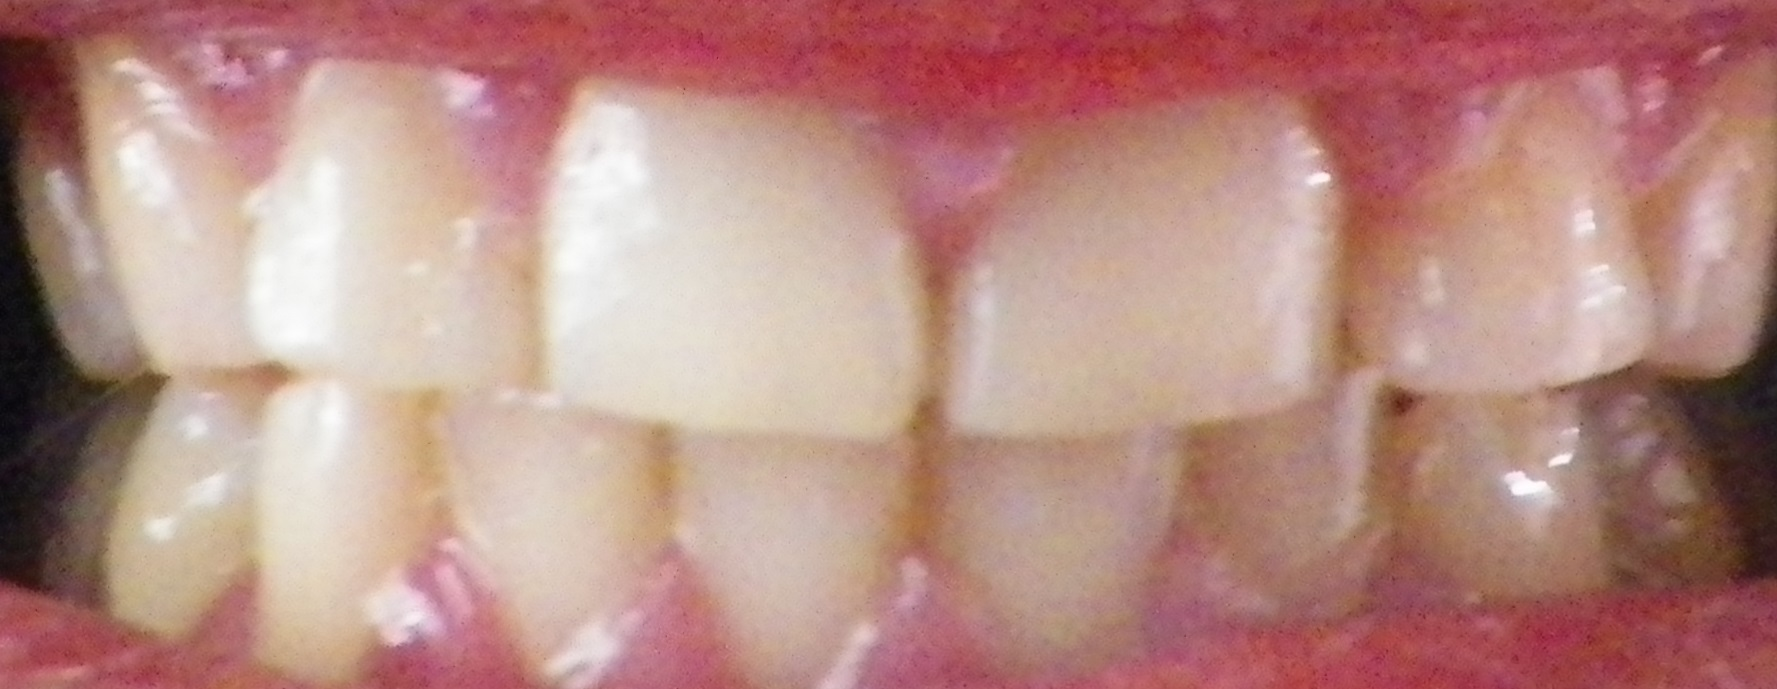boca: (6, 49, 1751, 644)
